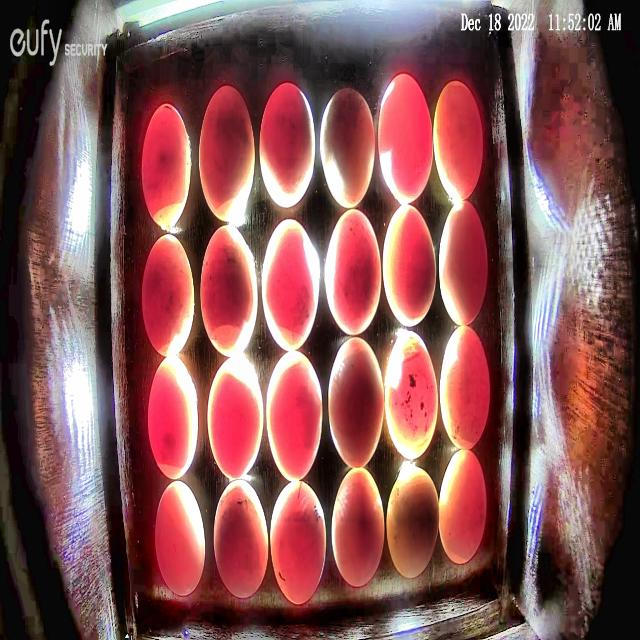FE: (198, 84, 255, 223), (262, 218, 320, 352), (200, 225, 258, 357), (266, 349, 323, 481), (206, 354, 265, 480), (328, 338, 385, 468), (378, 72, 433, 204), (325, 209, 382, 335), (259, 81, 315, 208), (384, 330, 438, 460), (270, 481, 326, 605), (382, 203, 436, 328), (213, 479, 269, 599), (320, 87, 375, 209), (141, 233, 195, 357), (330, 466, 384, 587), (439, 324, 490, 452), (140, 102, 190, 230), (148, 355, 199, 479), (439, 199, 488, 326), (154, 479, 206, 596), (434, 80, 484, 201), (386, 466, 439, 579), (439, 448, 487, 564)
